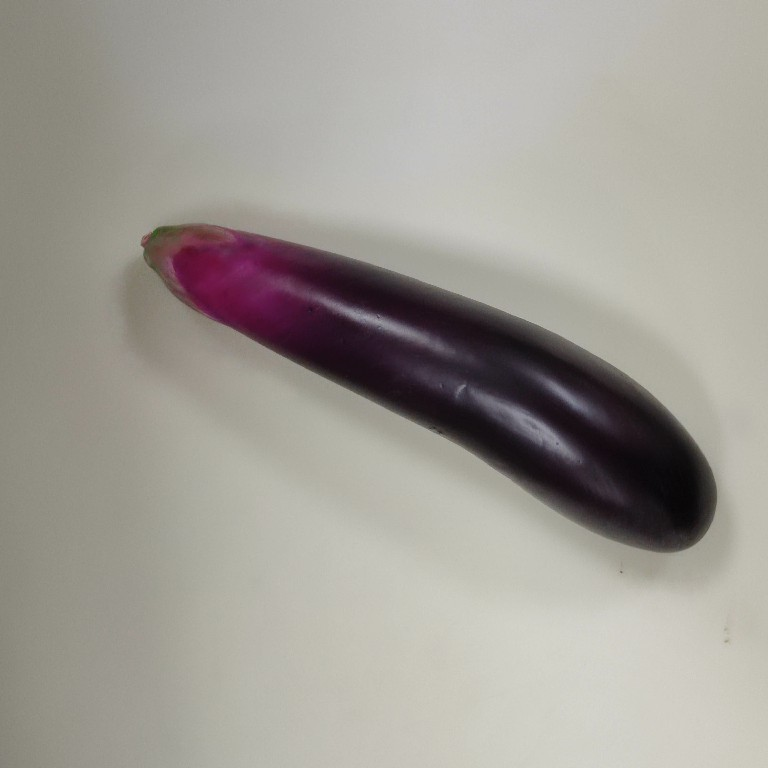fruit_eggplant: (135, 218, 721, 557)
